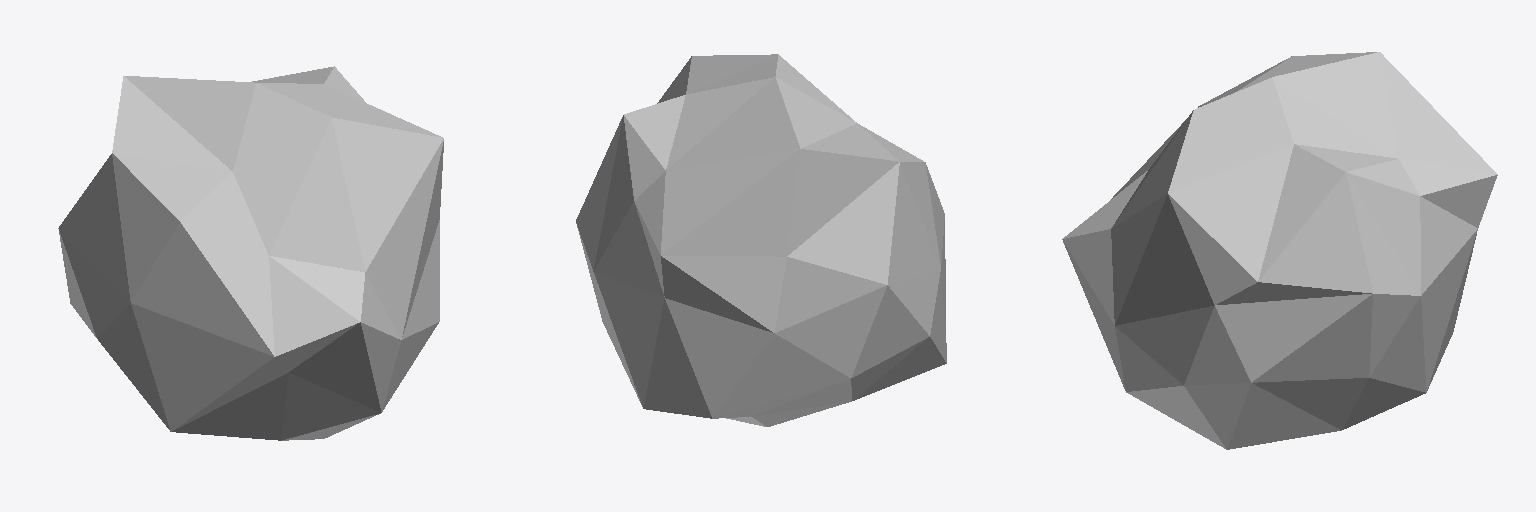
The model's file is bush2.obj.
3 views of the same model, side by side, from view 1: azimuth 30°, elevation 25°; view 2: azimuth 150°, elevation 25°; view 3: azimuth 270°, elevation 25° (orthographic).
Visible parts, largest first — view 1: bush2_Icosphere.007; view 2: bush2_Icosphere.007; view 3: bush2_Icosphere.007.
Boxes of the visible parts, <box> form: bush2_Icosphere.007: <box>58,66,443,440</box>; bush2_Icosphere.007: <box>576,54,946,426</box>; bush2_Icosphere.007: <box>1062,52,1497,449</box>.
Size of the model in its own units: 1.35 by 1.42 by 1.58.